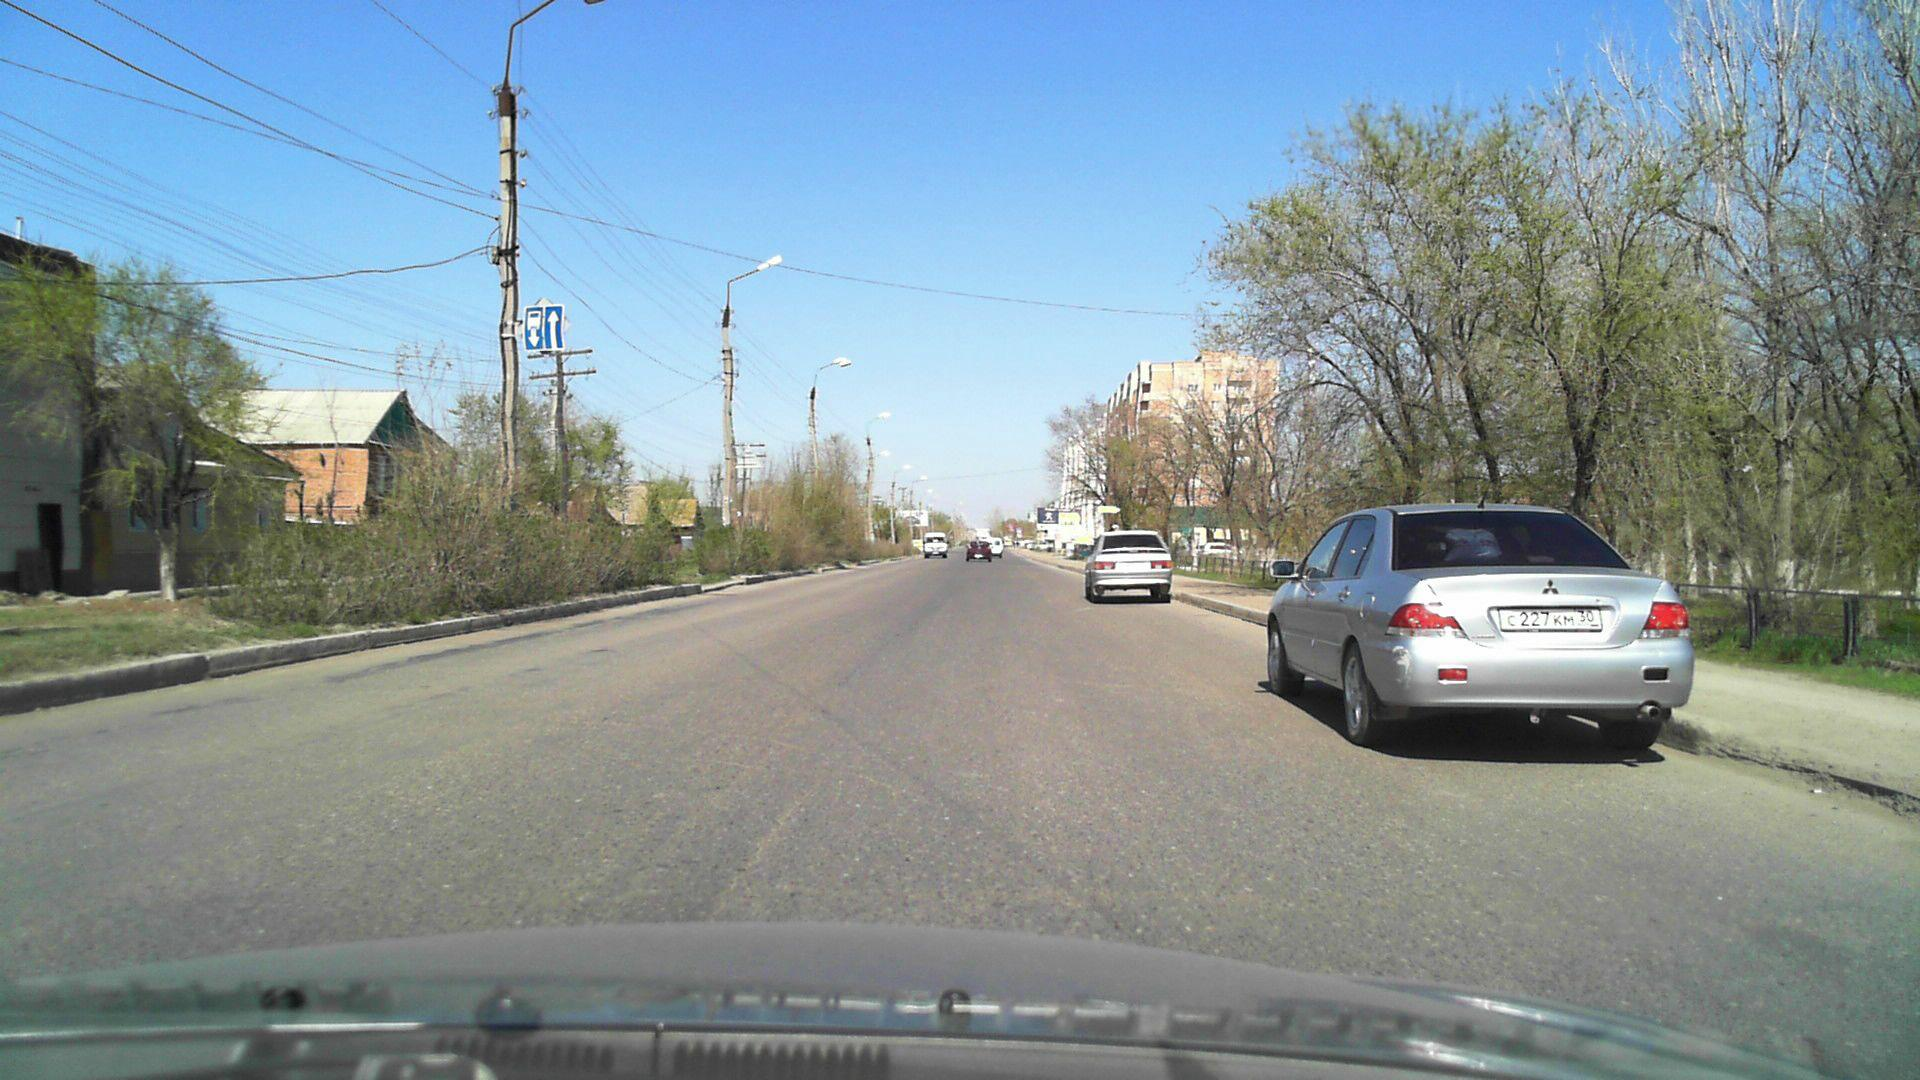5_11_1: (526, 302, 567, 351)
